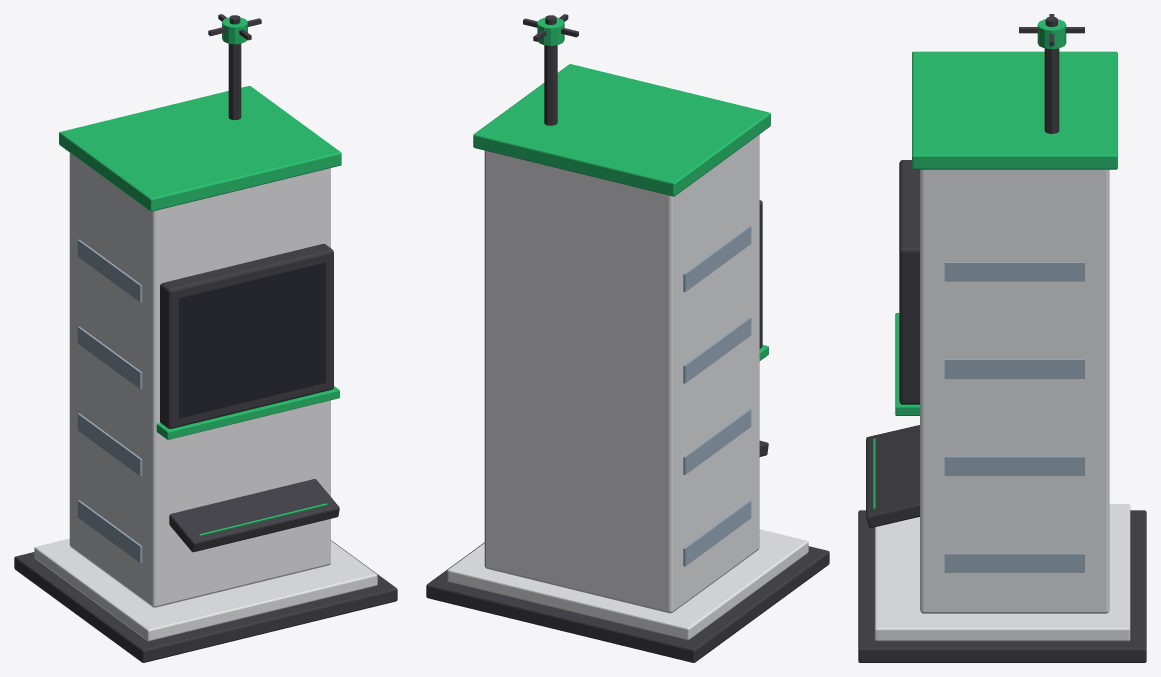
The model's file is terminal.glb.
The picture shows the model from 3 angles, left to right: view 1: azimuth 30°, elevation 25°; view 2: azimuth 150°, elevation 25°; view 3: azimuth 270°, elevation 25°; orthographic projection. The views are drawn at different scales.
Visible parts, largest first — view 1: terminal, code_screen, spin_beacon; view 2: terminal, spin_beacon; view 3: terminal, spin_beacon.
Part boxes in pixels (x1,y1,x2,y2): terminal: (14, 43, 397, 662); code_screen: (179, 262, 325, 418); spin_beacon: (208, 14, 261, 44); terminal: (426, 45, 829, 662); spin_beacon: (523, 14, 578, 45); terminal: (858, 48, 1146, 662); spin_beacon: (1019, 14, 1084, 49).
Size of the model in its own units: 8 by 16.14 by 7.
